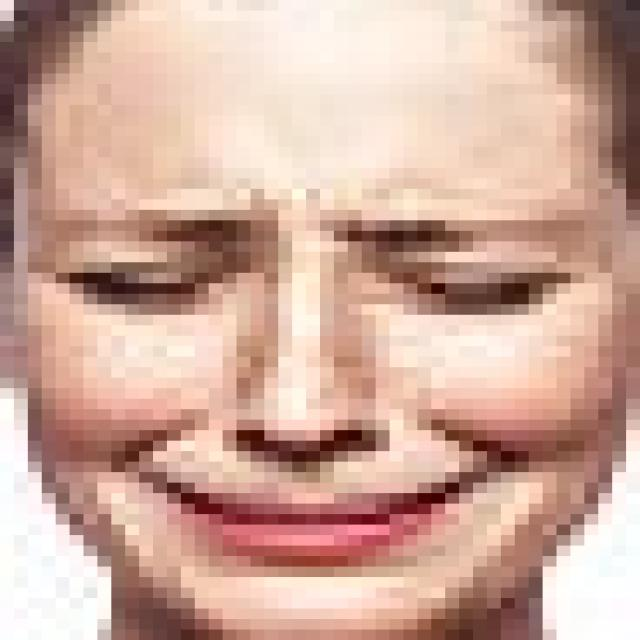Anxiety: (13, 5, 626, 630)
